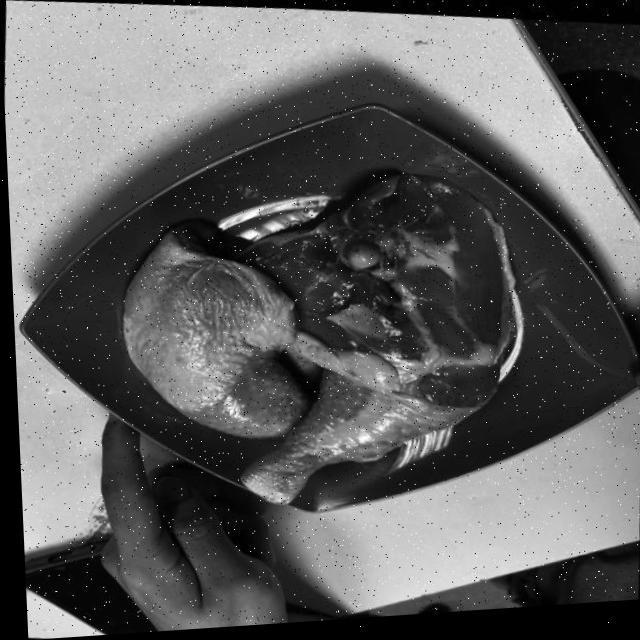quater: (236, 176, 498, 514), (102, 220, 348, 445)
